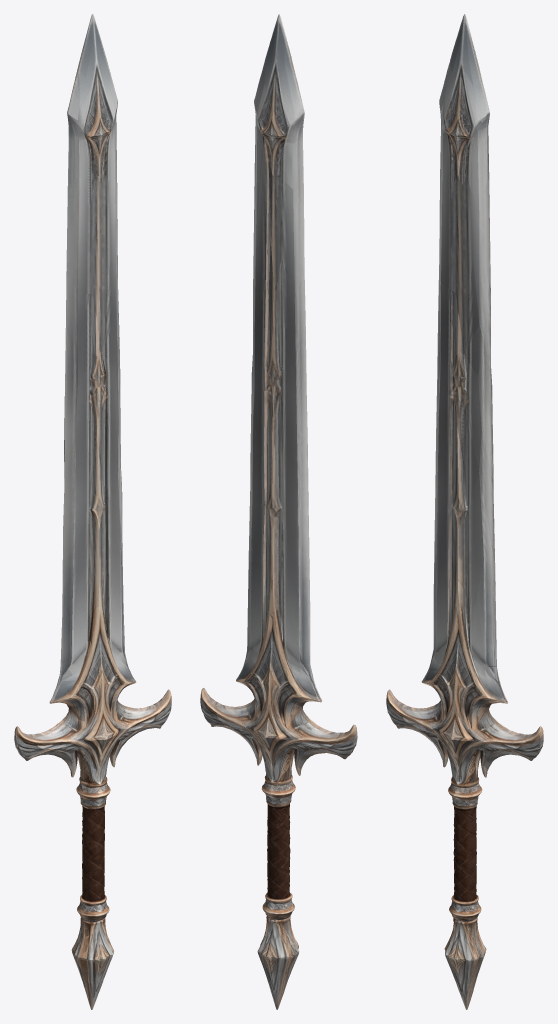
Rendered from GRS062_Remesh_10k.fbx.
3 renders of one model, left to right at view 1: azimuth 30°, elevation 25°; view 2: azimuth 150°, elevation 25°; view 3: azimuth 330°, elevation 25°, orthographic.
Parts seen in each view (by area): view 1: output_unwrapped; view 2: output_unwrapped; view 3: output_unwrapped.
Boxes of the visible parts, left/top/right/bottom form: output_unwrapped: left=14, top=14, right=171, bottom=1009; output_unwrapped: left=200, top=14, right=357, bottom=1009; output_unwrapped: left=386, top=14, right=543, bottom=1009.
Size of the model in its own units: 31.38 by 191 by 9.43.
1 material, 1 textured.
